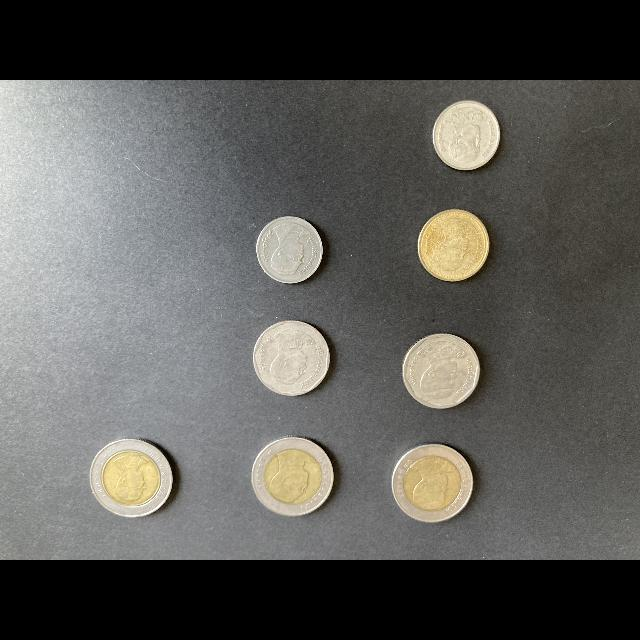1 Bath: (430, 97, 503, 172), (254, 214, 326, 290)
10 Bath: (387, 434, 479, 525), (250, 437, 338, 521), (87, 440, 179, 520)
2 Bath: (417, 207, 493, 286)
5 Bath: (251, 318, 333, 403), (403, 334, 489, 412)
